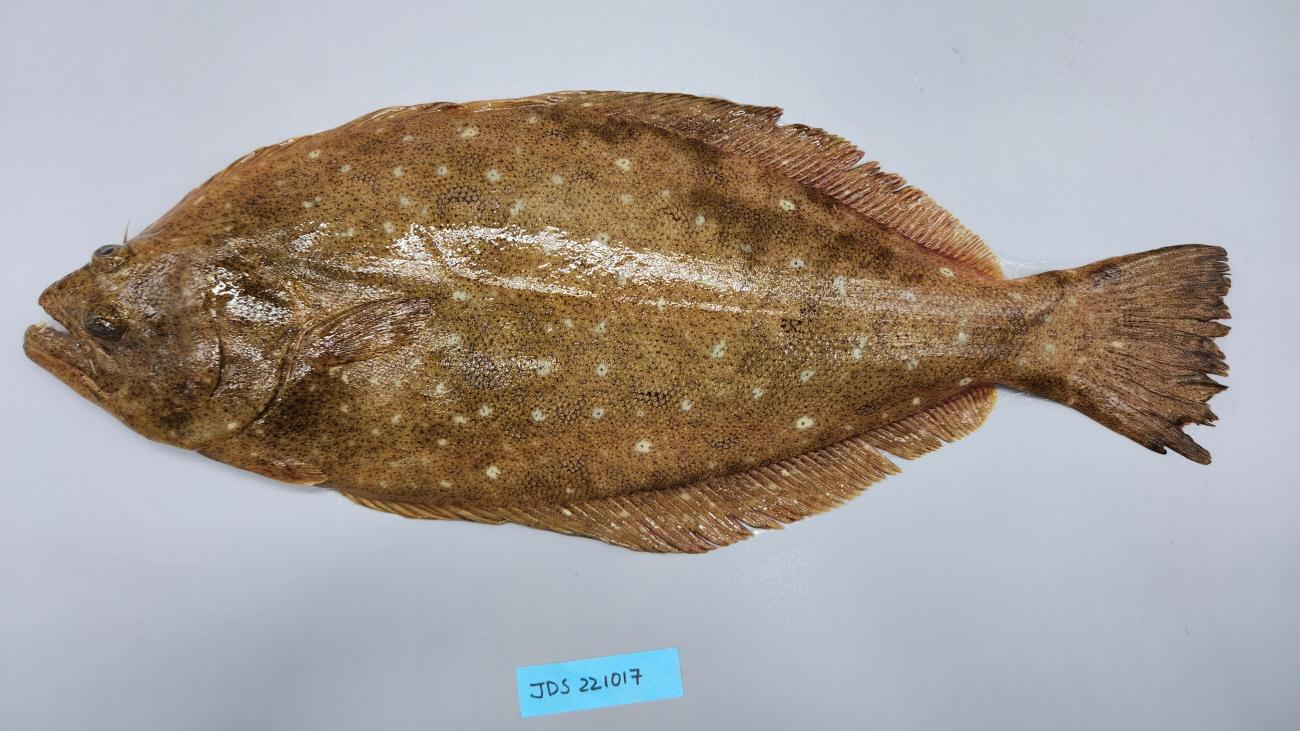POOUN: (24, 90, 1232, 554)
